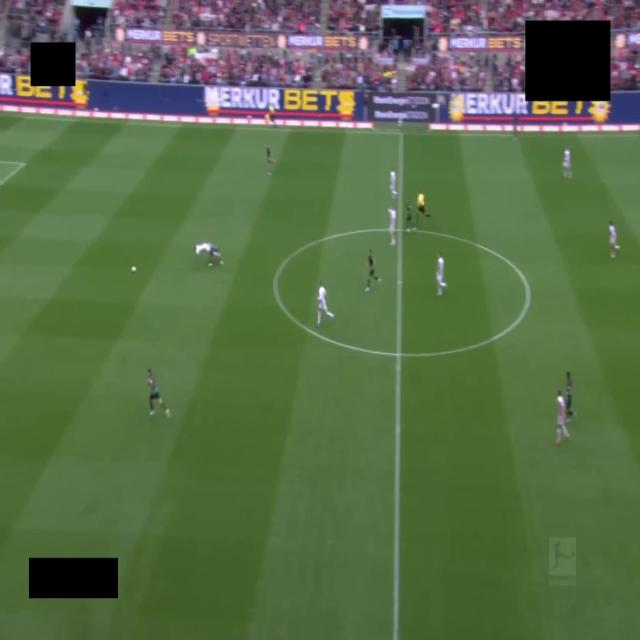ball: (131, 266, 136, 272)
player: (147, 368, 170, 416), (555, 390, 570, 444), (317, 282, 334, 327), (365, 249, 381, 292), (195, 243, 223, 266), (566, 372, 576, 421), (436, 252, 446, 295), (609, 221, 619, 257), (406, 200, 415, 231), (389, 208, 396, 246), (390, 167, 398, 198), (563, 149, 571, 177), (267, 147, 273, 175)
referee: (416, 193, 426, 215)
